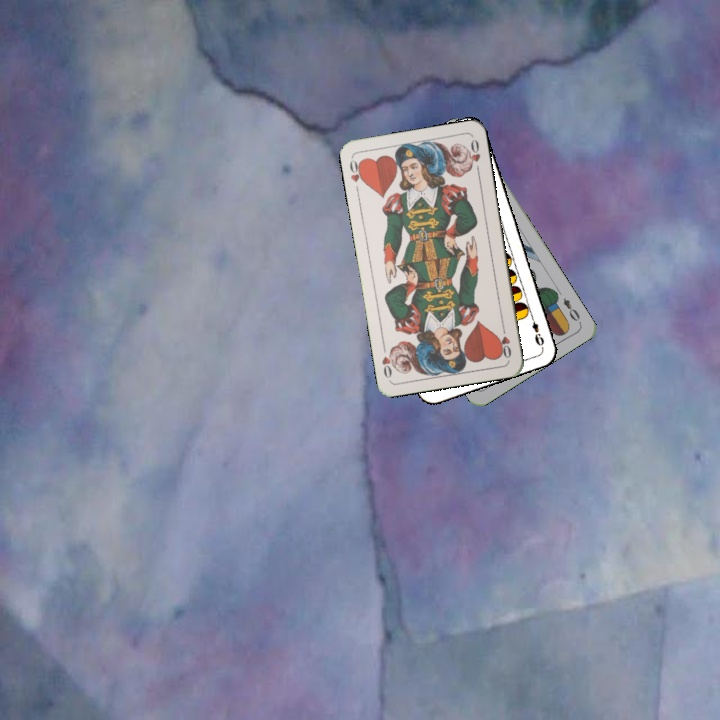E9: (526, 310, 547, 350)
EO: (559, 294, 584, 326)
HO: (495, 321, 514, 361), (346, 154, 367, 186)
